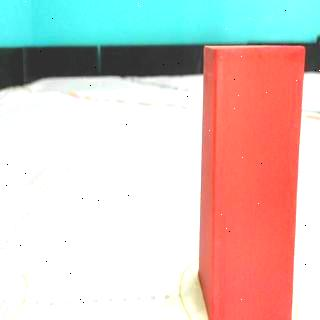redbox: (198, 42, 306, 320)
